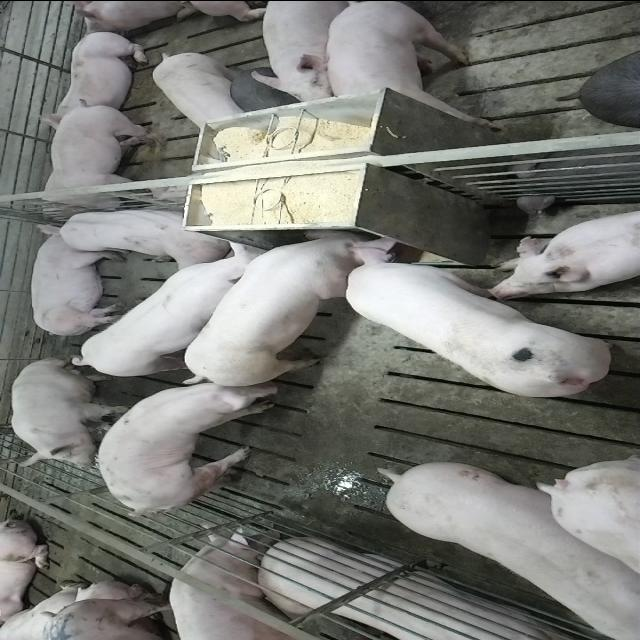Feeding: (340, 240, 616, 398), (175, 220, 382, 382)
Lateral_lying: (256, 538, 598, 640), (28, 223, 128, 337)
Sitting: (9, 356, 130, 468)
Standing: (373, 456, 638, 635), (68, 242, 286, 380), (93, 381, 285, 521), (327, 2, 502, 130), (42, 100, 174, 220), (166, 526, 303, 640), (252, 3, 364, 110), (152, 49, 249, 134)
Sternal_lying: (488, 205, 640, 295), (51, 203, 231, 265), (32, 29, 152, 120)
